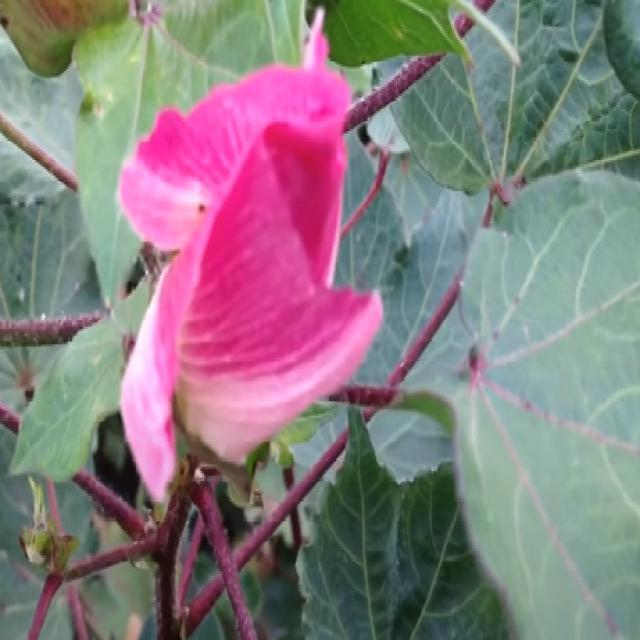Cotton Blossom: (105, 35, 394, 513)
